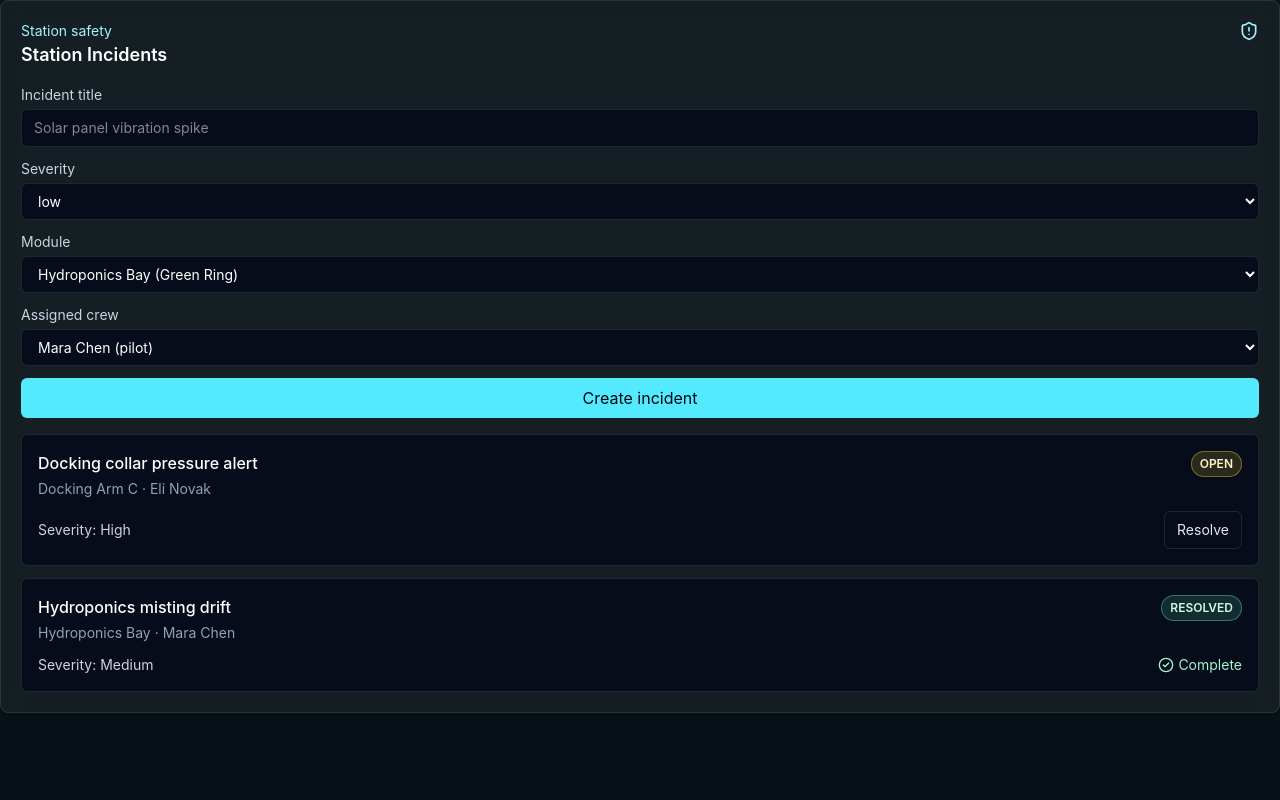
Test: StationIncidents › invalid incident form shows a useful error
The width and height of the screenshot is (1280, 800).
Expected: the heading "Station Incidents" is shown, [21,41,167,69]
Click the button "Create incident". click: click(640, 398)
box: [21,378,1259,418]
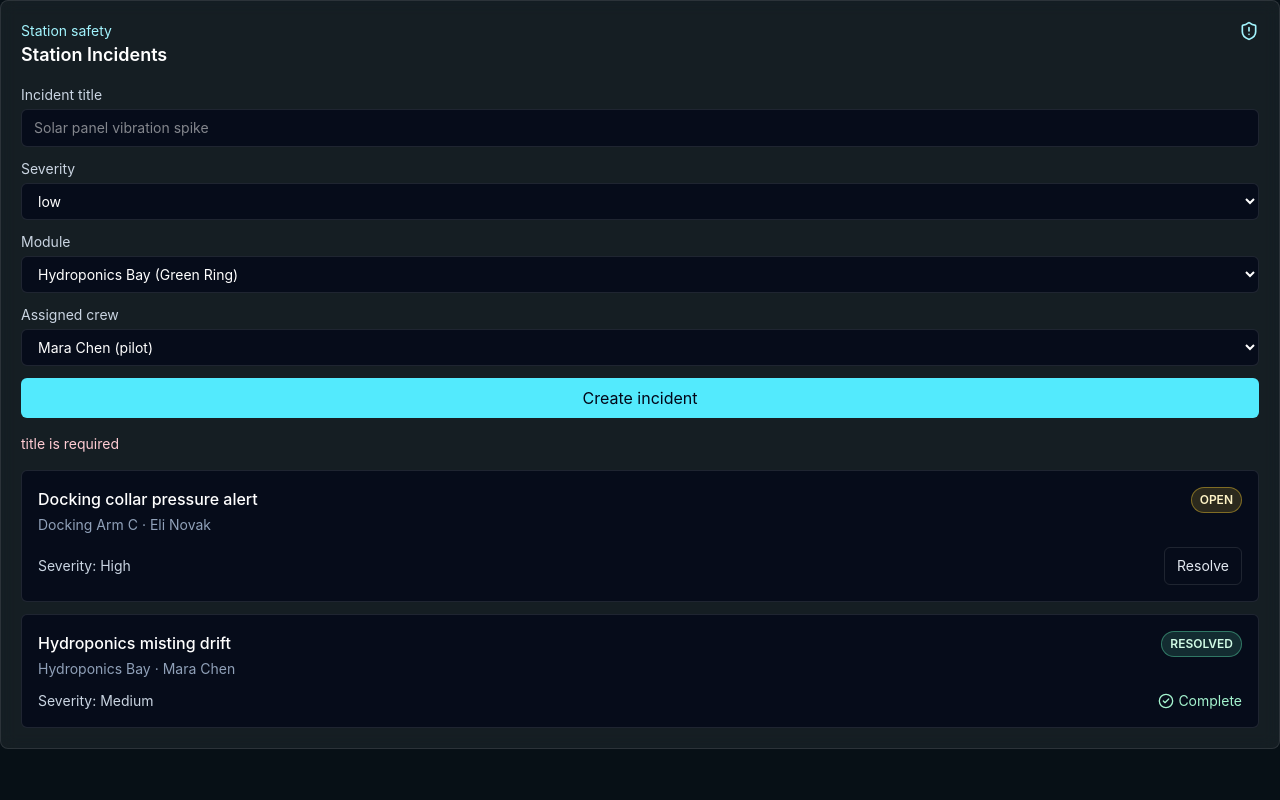
Expected: the text "title is required" is shown, [21,435,119,452]
